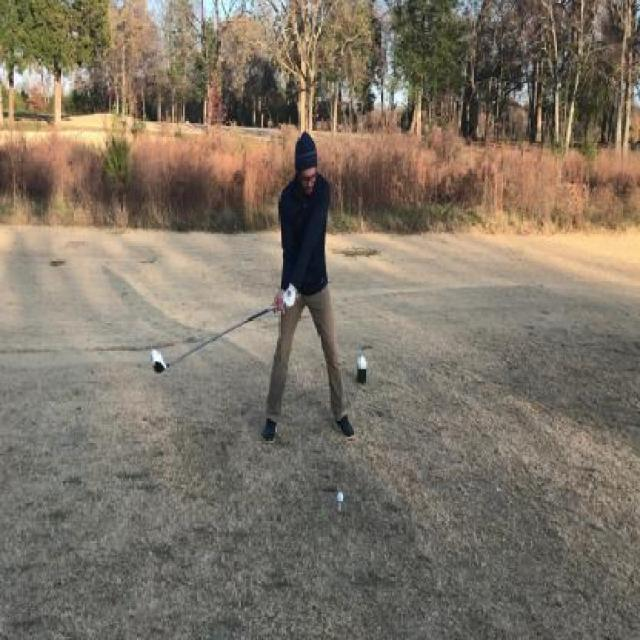club head: (152, 347, 170, 375)
